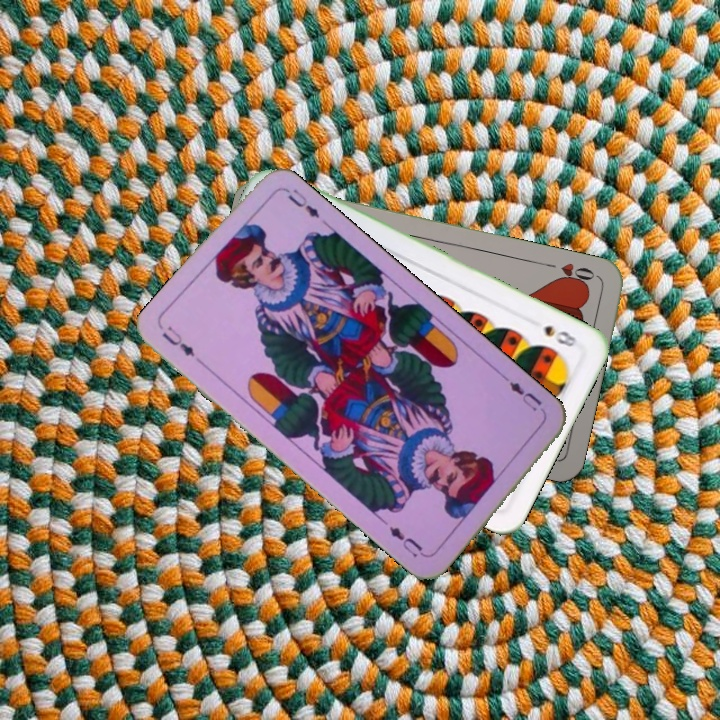EU: (157, 322, 198, 360), (505, 377, 545, 414)
HO: (541, 259, 600, 289)
S8: (540, 321, 580, 350)
